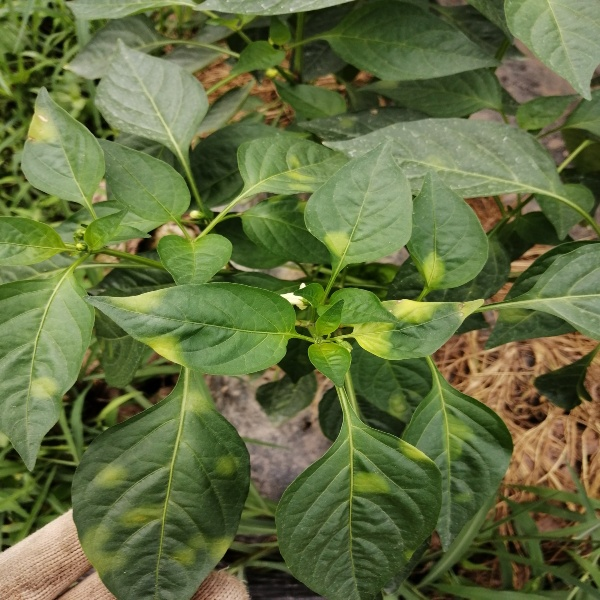Improper medication: (348, 296, 484, 361), (79, 498, 162, 575), (245, 155, 319, 192), (336, 461, 399, 499), (436, 410, 474, 465), (136, 327, 191, 365), (165, 384, 234, 414), (103, 287, 172, 316), (21, 100, 63, 147), (174, 529, 232, 563), (85, 454, 133, 491), (420, 244, 449, 290), (393, 435, 434, 465), (26, 372, 65, 401), (322, 224, 353, 259), (206, 449, 252, 472)
